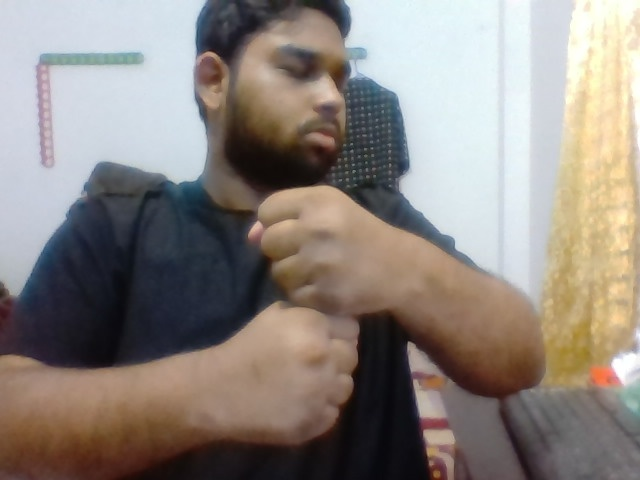G: (232, 179, 388, 451)
